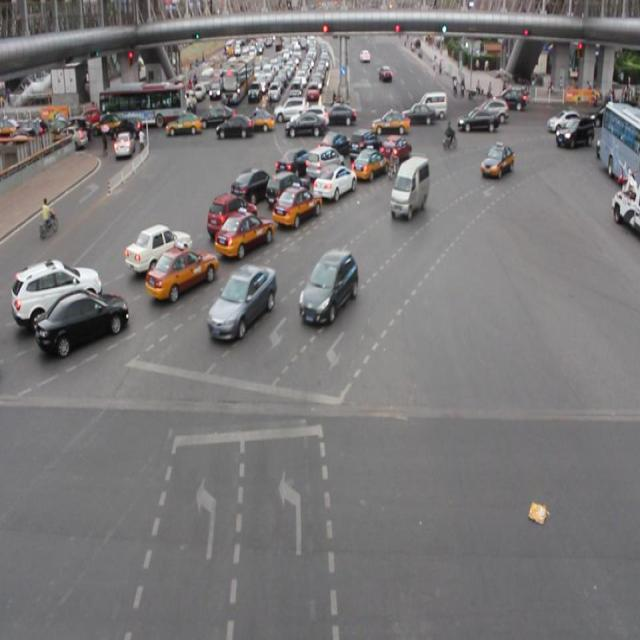car: (37, 286, 128, 350), (12, 260, 100, 322), (208, 265, 274, 338), (299, 252, 357, 322), (146, 246, 216, 300), (126, 223, 192, 271), (216, 209, 272, 257), (206, 192, 258, 236), (274, 184, 322, 230), (264, 168, 310, 207), (314, 164, 356, 205), (231, 168, 273, 205), (274, 148, 313, 183), (351, 146, 387, 182), (480, 142, 512, 180), (316, 130, 350, 162), (348, 128, 381, 160), (379, 134, 411, 166)
truck: (390, 156, 429, 220), (305, 145, 343, 182)
